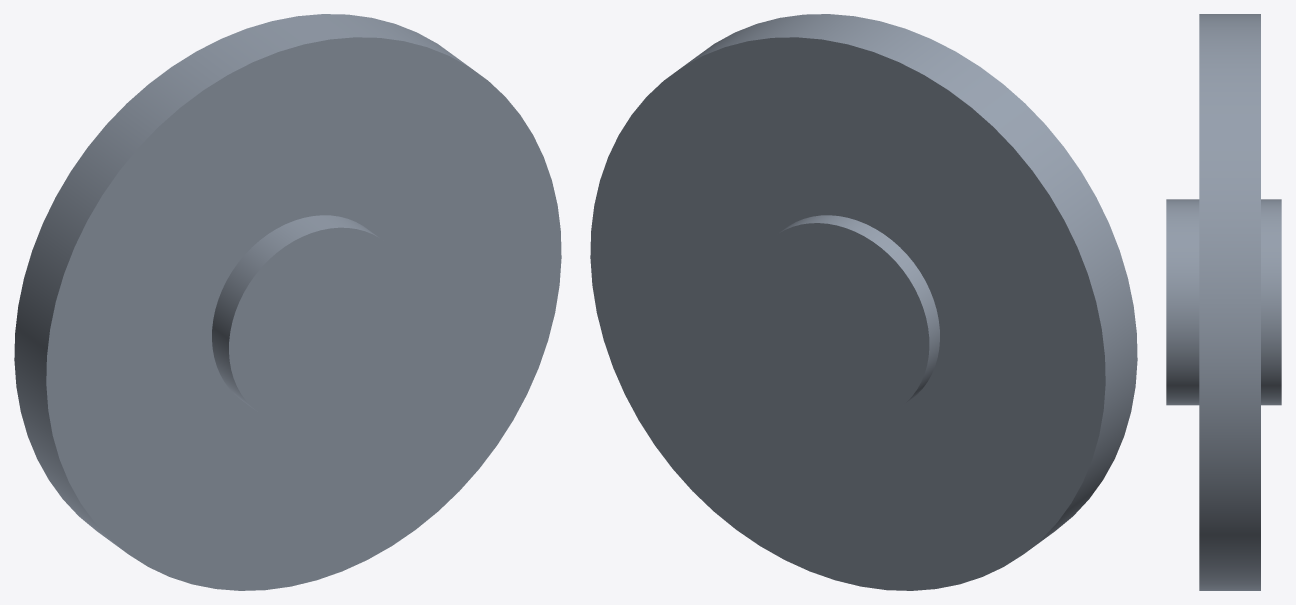
Rendered from step_27.glb.
3 renders of one model, left to right at view 1: azimuth 30°, elevation 25°; view 2: azimuth 150°, elevation 25°; view 3: azimuth 270°, elevation 25°, orthographic. The views are drawn at different scales.
Parts seen in each view (by area): view 1: part__flywheel; view 2: part__flywheel; view 3: part__flywheel.
Part boxes in pixels (x1,y1,x2,y2): part__flywheel: (14,14,561,590); part__flywheel: (590,14,1137,590); part__flywheel: (1166,14,1281,590).
Bounding box in the file's own units: 140 × 140 × 28.
